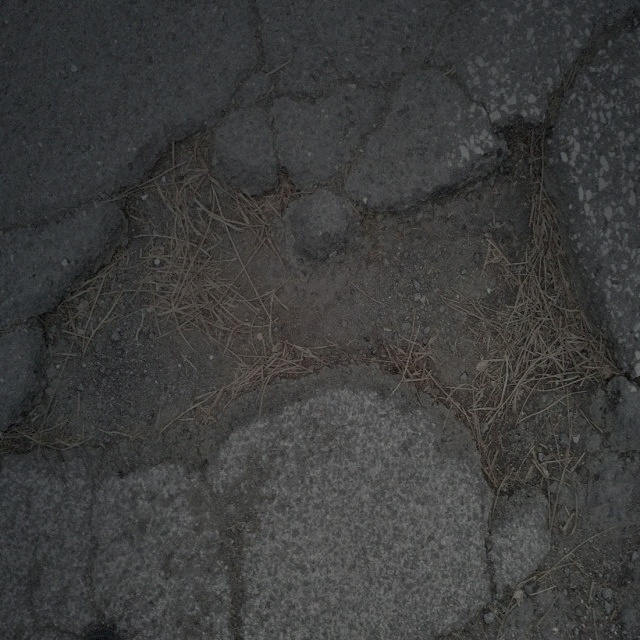pothole: (23, 86, 623, 514)
